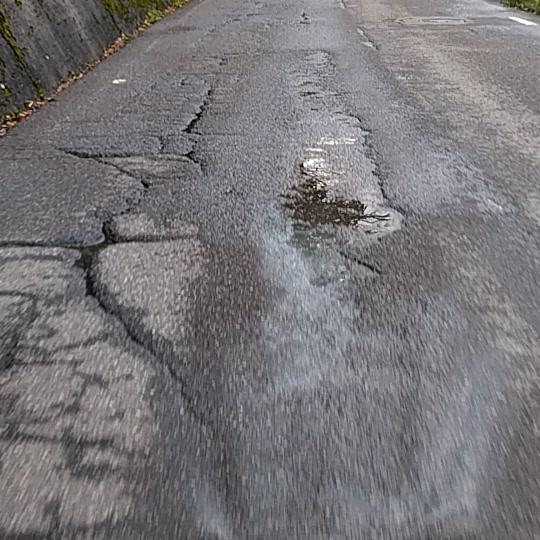D20: (0, 89, 268, 438)
